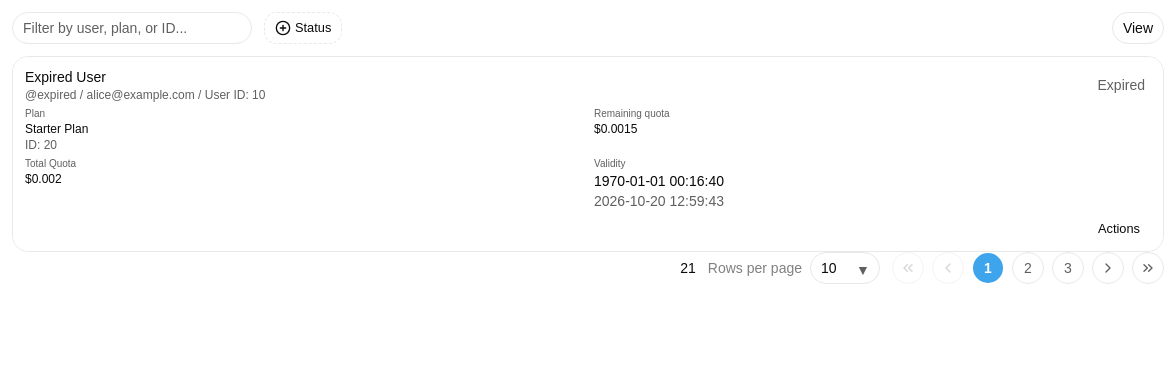
admin subscriptions table › disables reset for an expired subscription
This screenshot has width=1176, height=369.
What coordinates should you click on to do the following:
click the button with aria-label "Actions"
I would click on:
 (1111, 229)
Its box is [1070, 215, 1151, 243].
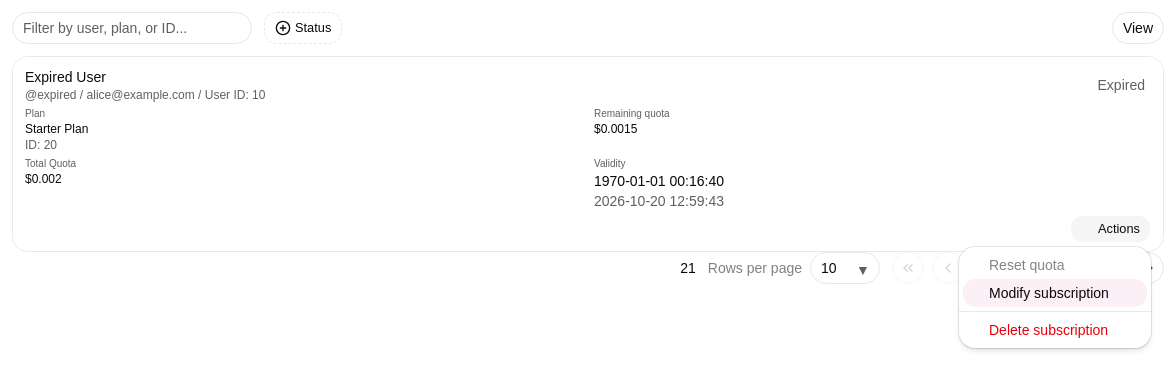
Now the menu item "Reset quota" is shown, box [989, 257, 1064, 273]
